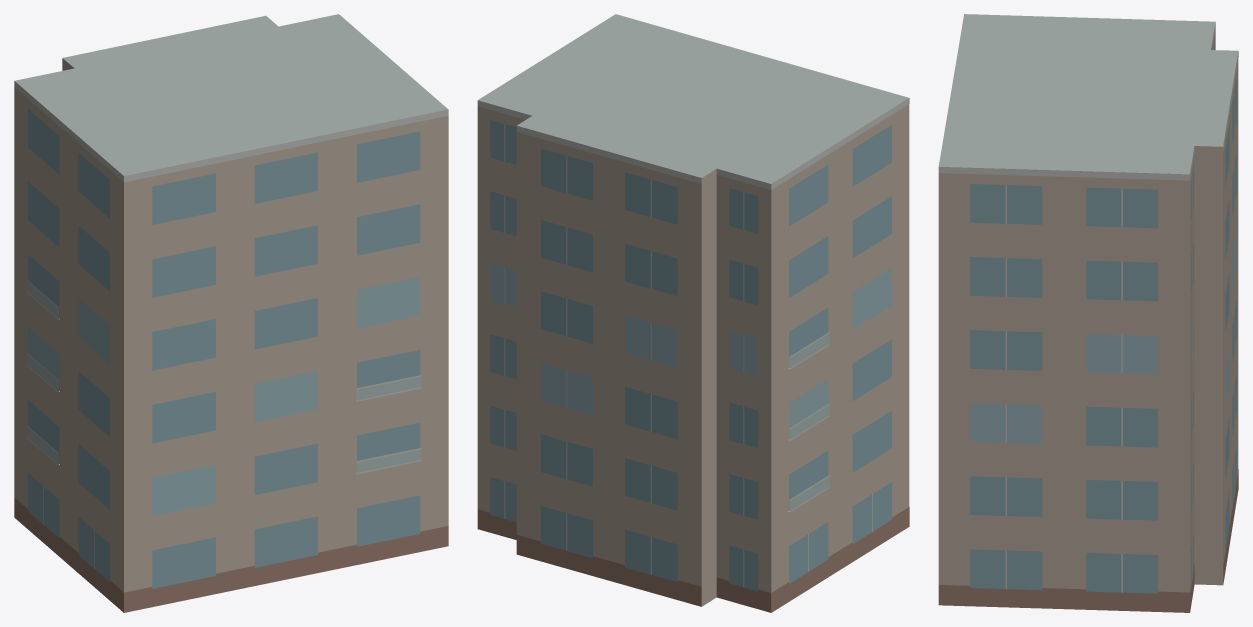
File: survey-upis-32878134.glb
3 renders of one model, left to right at view 1: azimuth 30°, elevation 25°; view 2: azimuth 150°, elevation 25°; view 3: azimuth 270°, elevation 25°, orthographic. The views are drawn at different scales.
Parts seen in each view (by area): view 1: survey-upis-32878134.tmp; view 2: survey-upis-32878134.tmp; view 3: survey-upis-32878134.tmp.
Boxes of the visible parts, x1,y1,x2,y2 form: survey-upis-32878134.tmp: (14,14,448,612); survey-upis-32878134.tmp: (477,14,909,612); survey-upis-32878134.tmp: (938,14,1238,612).
Bounding box in the file's own units: 13.42 × 17.1 × 10.61.
